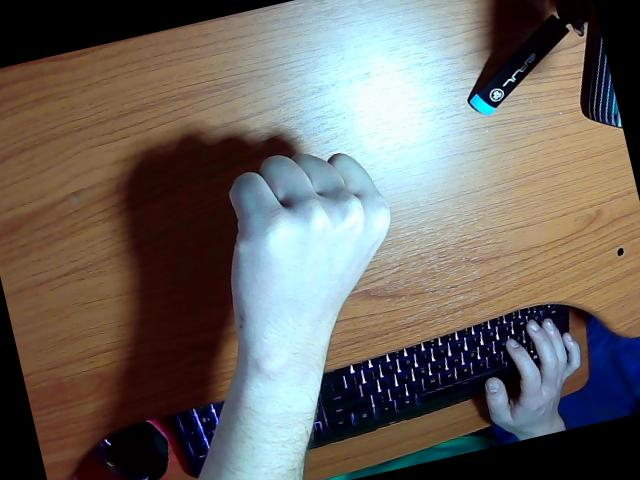rock: (198, 153, 390, 480)
